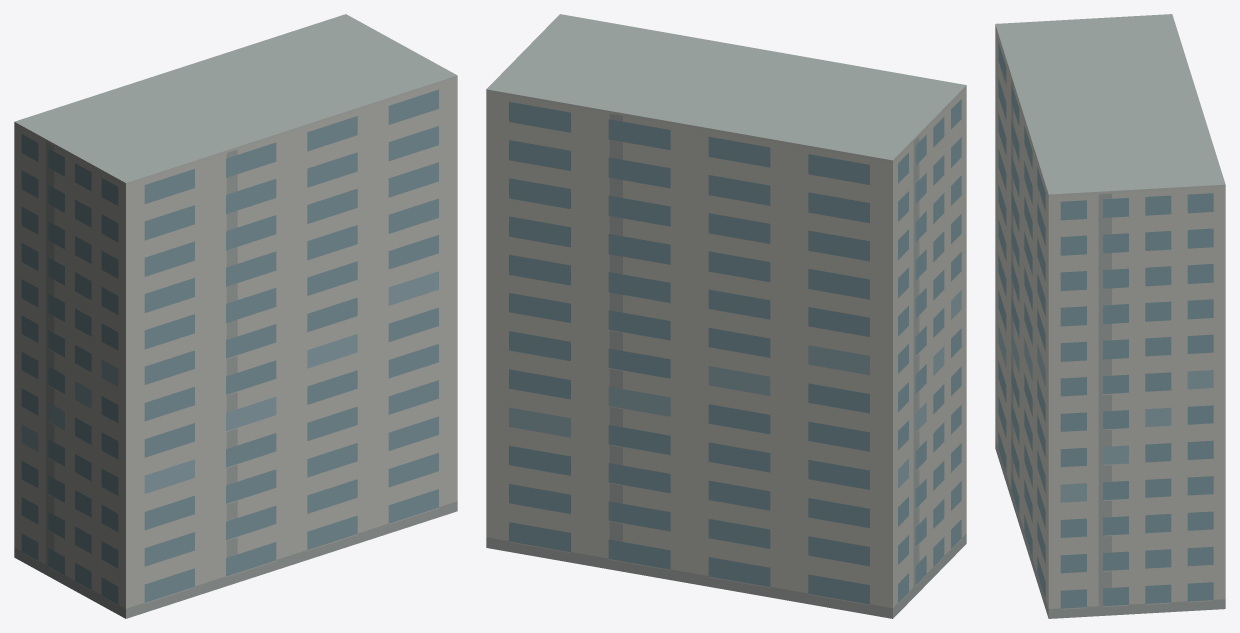
Rendered from residential-0417cc50-994f-4035-ac8a-8e7d990a5fe4.glb.
3 renders of one model, left to right at view 1: azimuth 30°, elevation 25°; view 2: azimuth 150°, elevation 25°; view 3: azimuth 270°, elevation 25°, orthographic. The views are drawn at different scales.
Visible parts, largest first — view 1: residential-0417cc50-994f-4035-ac8a-8e7d990a5fe4.tmp; view 2: residential-0417cc50-994f-4035-ac8a-8e7d990a5fe4.tmp; view 3: residential-0417cc50-994f-4035-ac8a-8e7d990a5fe4.tmp.
Boxes of the visible parts, x1,y1,x2,y2 form: residential-0417cc50-994f-4035-ac8a-8e7d990a5fe4.tmp: (14,14,457,618); residential-0417cc50-994f-4035-ac8a-8e7d990a5fe4.tmp: (486,14,966,618); residential-0417cc50-994f-4035-ac8a-8e7d990a5fe4.tmp: (995,14,1225,618).
Bounding box in the file's own units: 38.33 × 42 × 20.67.
